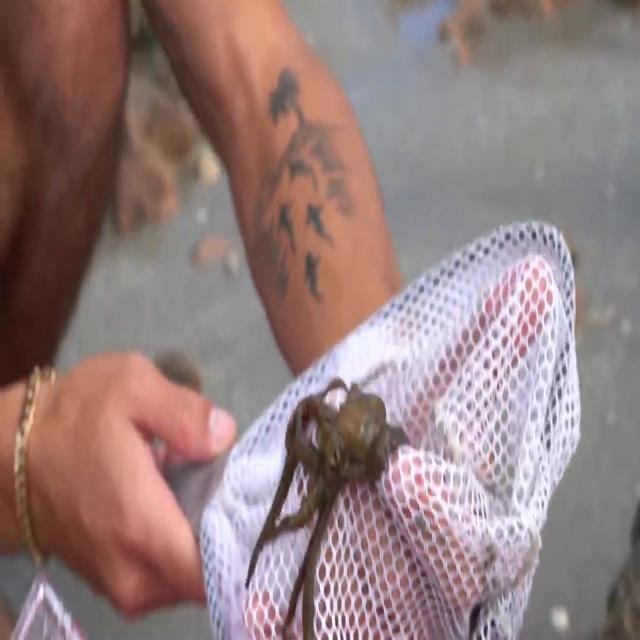octopus: (241, 370, 419, 640)
